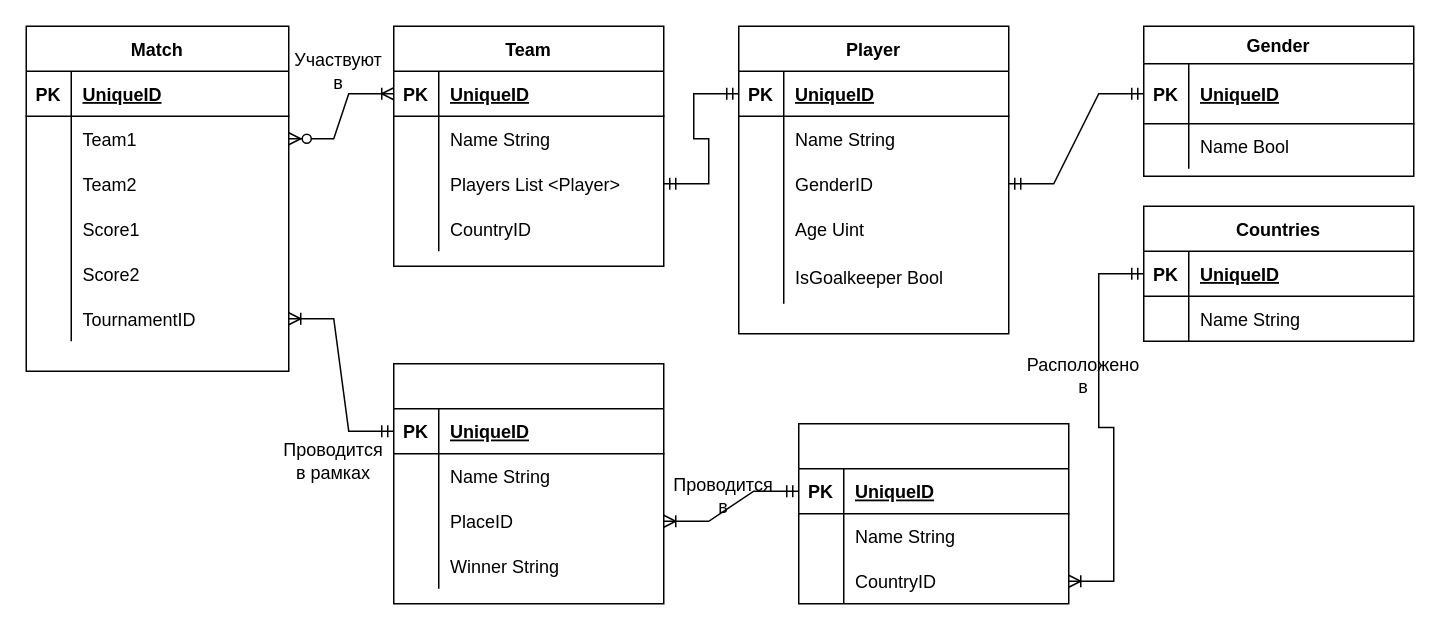
The diagram is 1440 pixels wide and 630 high, and some of its shapes have lost their labels. Each missing label, with the box of its shape:
Place: (797, 422, 1069, 604)
Tournament: (392, 362, 664, 604)
